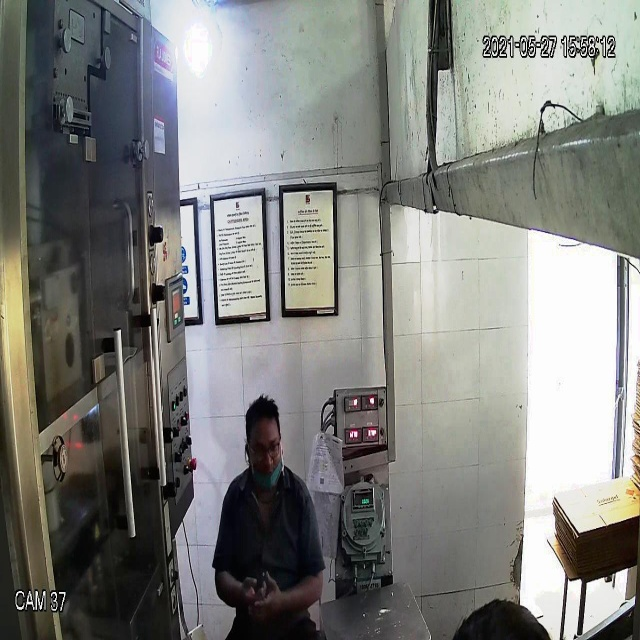Gafas: (240, 434, 289, 467)
